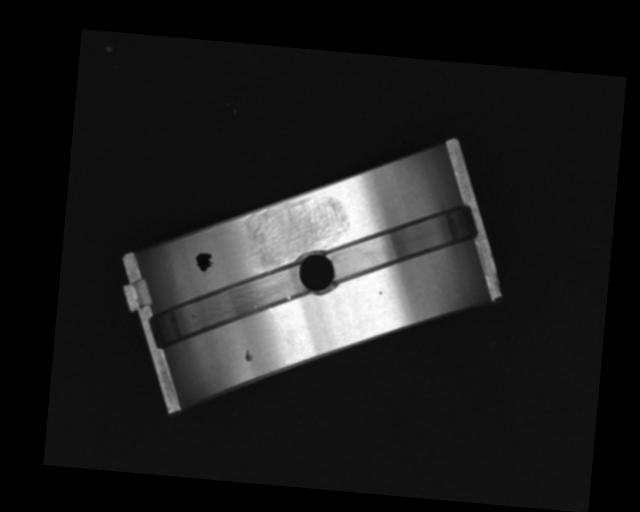blot: (194, 251, 214, 273)
bruise: (242, 348, 254, 364), (378, 290, 383, 295)
gap: (145, 249, 309, 360), (326, 192, 483, 294)
hole: (290, 247, 341, 299)
nick: (265, 307, 292, 343)
scratch: (237, 188, 354, 272)
